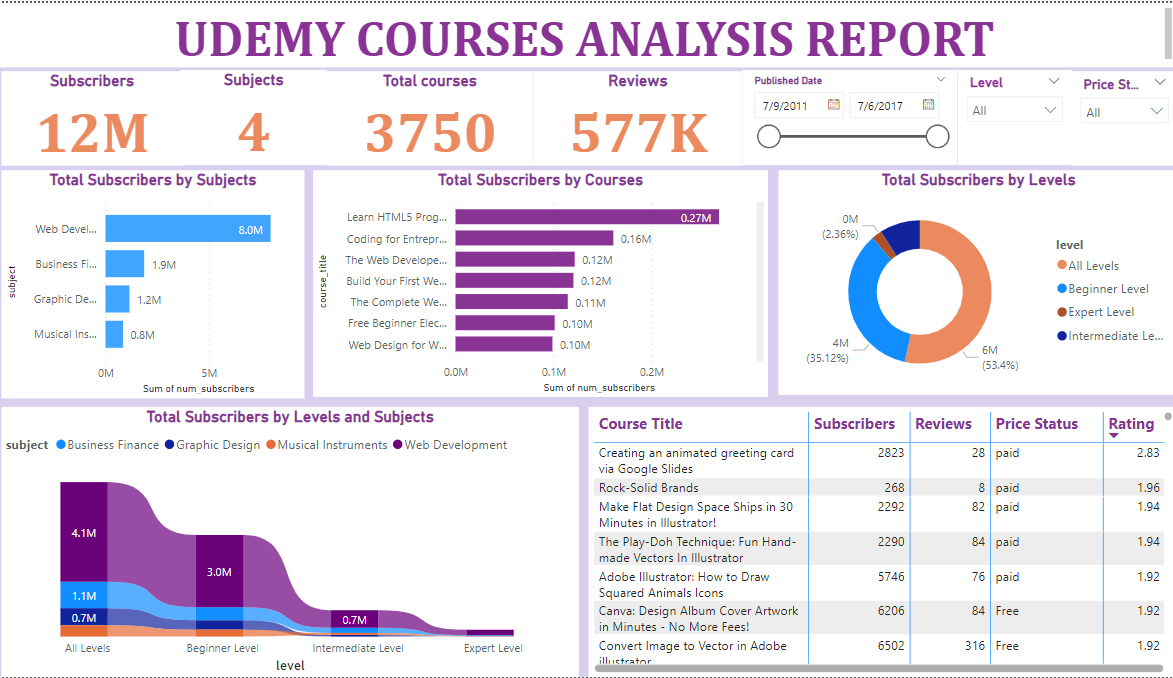

Layout of this report page (visuals, bound fields, positions):
{"tool":"powerbi","page":{"name":"uDDEMY COURSE ANALYSIS","canvas":[1280,720],"ordinal":0},"visuals":[{"type":"card","title":"Subscribers ","fields":{"Values":["Sum(Udemy Courses Data.num_subscribers)"]},"box":[22.5,72.5,193.8,101.2],"z":0},{"type":"card","title":"Subjects","fields":{"Values":["Count(Udemy Courses Data.subject)"]},"box":[214.3,72.9,155.7,100],"z":1000},{"type":"card","title":"Total courses","fields":{"Values":["CountNonNull(Udemy Courses Data.course_title)"]},"box":[370,72.5,221.2,101.2],"z":2000},{"type":"card","title":"Reviews","fields":{"Values":["Sum(Udemy Courses Data.num_reviews)"]},"box":[591.2,72.5,222.5,101.2],"z":3000},{"type":"slicer","fields":{"Values":["Udemy Courses Data.published_date"]},"box":[814.1,71.9,229.7,101.6],"z":4000},{"type":"clusteredBarChart","title":"Total Subscribers by Subjects","fields":{"Category":["Udemy Courses Data.subject"],"Y":["Sum(Udemy Courses Data.num_subscribers)"]},"box":[22.5,178.8,323.8,243.8],"z":5000},{"type":"clusteredBarChart","title":"Total Subscribers by Courses","fields":{"Category":["Udemy Courses Data.course_title"],"Y":["Sum(Udemy Courses Data.num_subscribers)"]},"box":[356.2,178.8,486.2,242.5],"z":6000},{"type":"donutChart","title":"Total Subscribers by Levels","fields":{"Y":["Sum(Udemy Courses Data.num_subscribers)"],"Series":["Udemy Courses Data.level"]},"box":[852.5,178.8,427.5,240],"z":7000},{"type":"slicer","fields":{"Values":["Udemy Courses Data.Price Status"]},"box":[1165,72.5,113.8,101.2],"z":8000},{"type":"ribbonChart","title":"Total Subscribers by Levels and Subjects","fields":{"Y":["Sum(Udemy Courses Data.num_subscribers)"],"Category":["Udemy Courses Data.level"],"Series":["Udemy Courses Data.subject"]},"box":[23,431.8,617,288.7],"z":9000},{"type":"tableEx","fields":{"Values":["Udemy Courses Data.course_title","Sum(Udemy Courses Data.num_subscribers)","Sum(Udemy Courses Data.num_reviews)","Udemy Courses Data.Price Status","Sum(Udemy Courses Data.Rating)"]},"box":[650,431.2,628.8,288.8],"z":10000},{"type":"textbox","box":[21.9,0,1256.2,68.8],"z":11000},{"type":"slicer","fields":{"Values":["Udemy Courses Data.level"]},"box":[1043.8,71.9,121.9,101.6],"z":12000}]}

Visuals, with their boxes in screenshot pixels (x1, y1, x2, y2), scaled from the page's 1280x720 canvas onto the 1173x678 screenshot:
"Subscribers " card: region(21, 68, 198, 164)
"Subjects" card: region(196, 69, 339, 163)
"Total courses" card: region(339, 68, 542, 164)
"Reviews" card: region(542, 68, 746, 164)
slicer - Udemy Courses Data.published_date: region(746, 68, 957, 163)
"Total Subscribers by Subjects" clusteredBarChart: region(21, 168, 317, 398)
"Total Subscribers by Courses" clusteredBarChart: region(326, 168, 772, 397)
"Total Subscribers by Levels" donutChart: region(781, 168, 1172, 394)
slicer - Udemy Courses Data.Price Status: region(1068, 68, 1172, 164)
"Total Subscribers by Levels and Subjects" ribbonChart: region(21, 407, 586, 677)
tableEx - Udemy Courses Data.course_title x Sum(Udemy Courses Data.num_subscribers): region(596, 406, 1172, 677)
textbox: region(20, 0, 1171, 65)
slicer - Udemy Courses Data.level: region(957, 68, 1068, 163)
